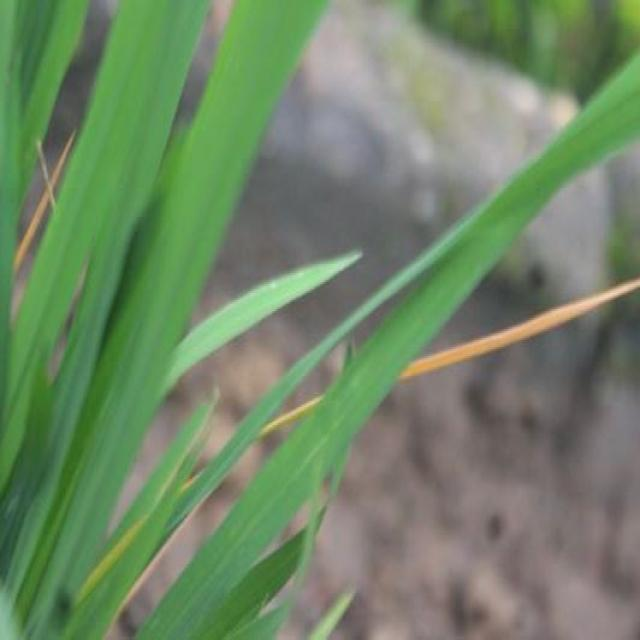Rice Tungro: (400, 255, 640, 399)
